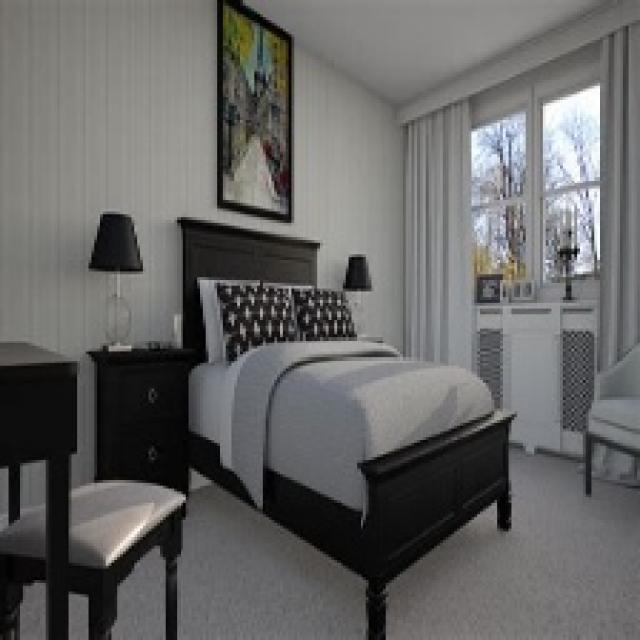Bed: (174, 214, 517, 637)
